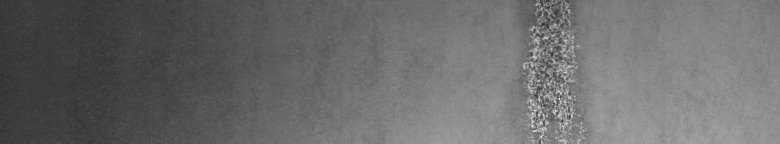hc: (518, 4, 594, 136)
